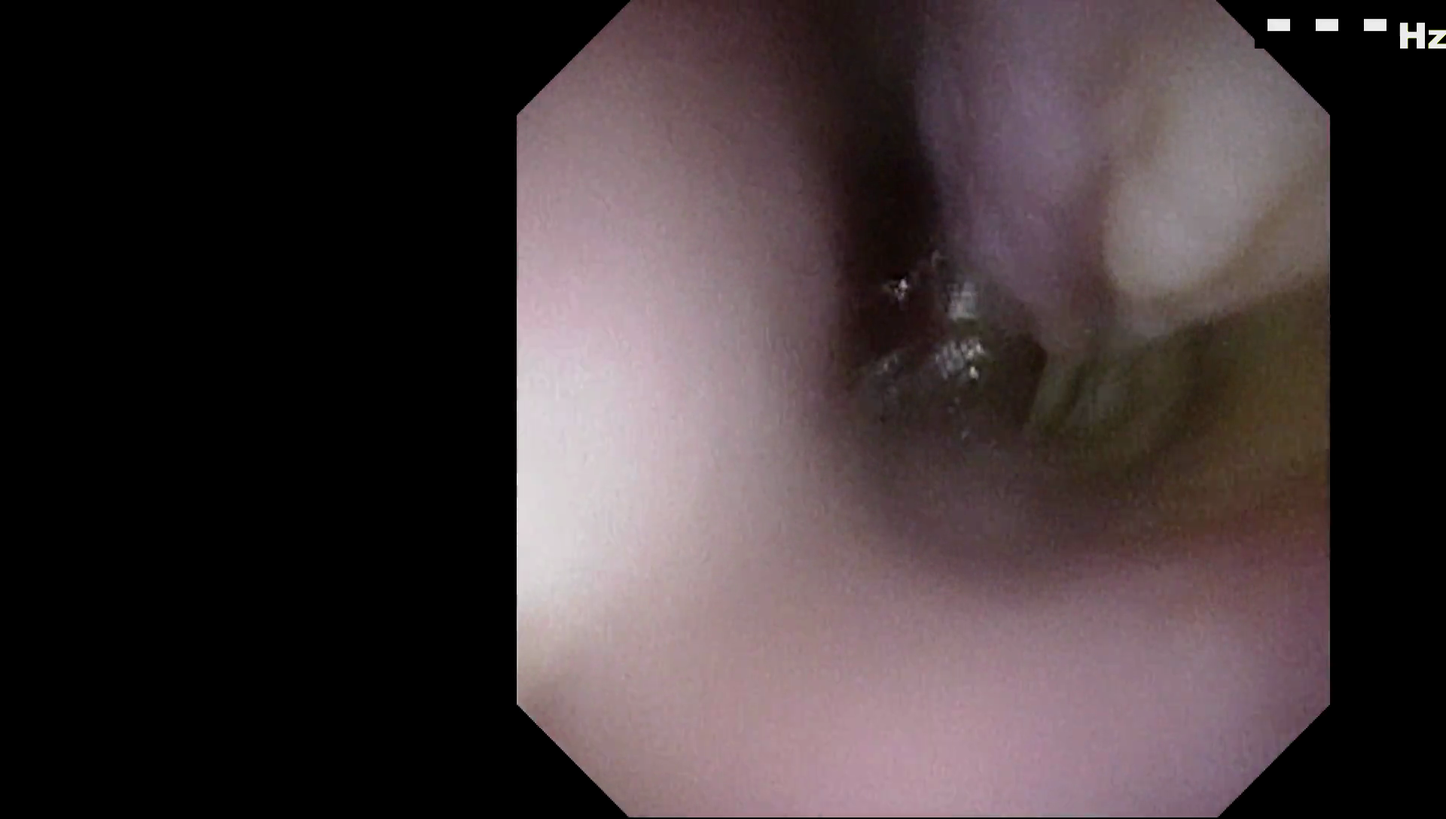close_wall: (518, 132, 867, 698), (666, 555, 1220, 818)
next: (786, 68, 958, 367)
